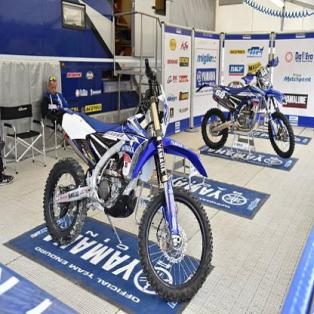Motocicleta: (41, 84, 213, 302), (206, 59, 296, 158)
